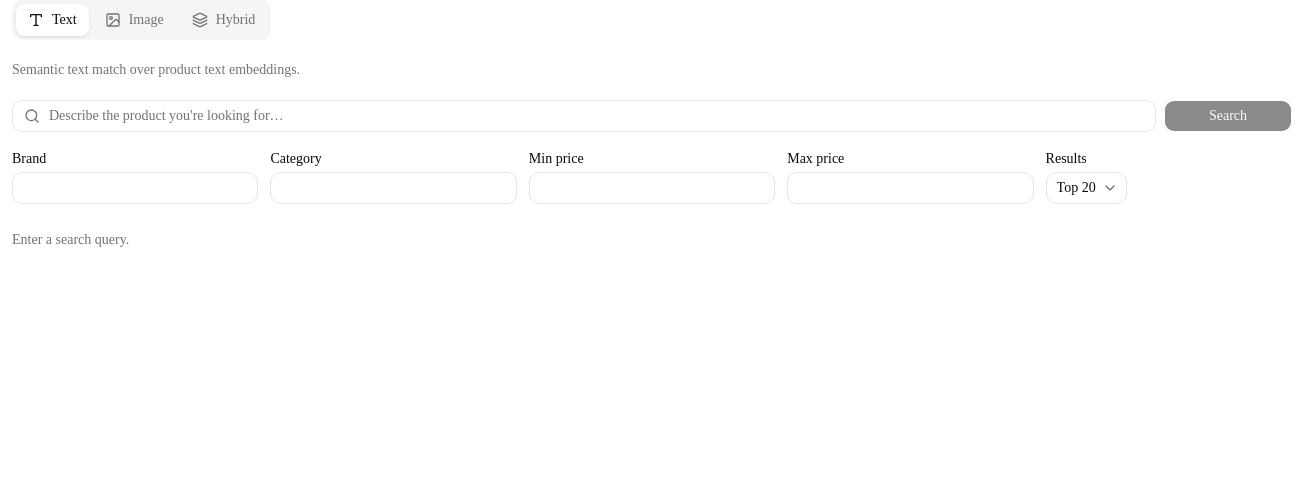
Test: SearchConsole › requires both inputs in hybrid mode
Click the radio button labelled "Hybrid": (224,20) [180,4,267,36]
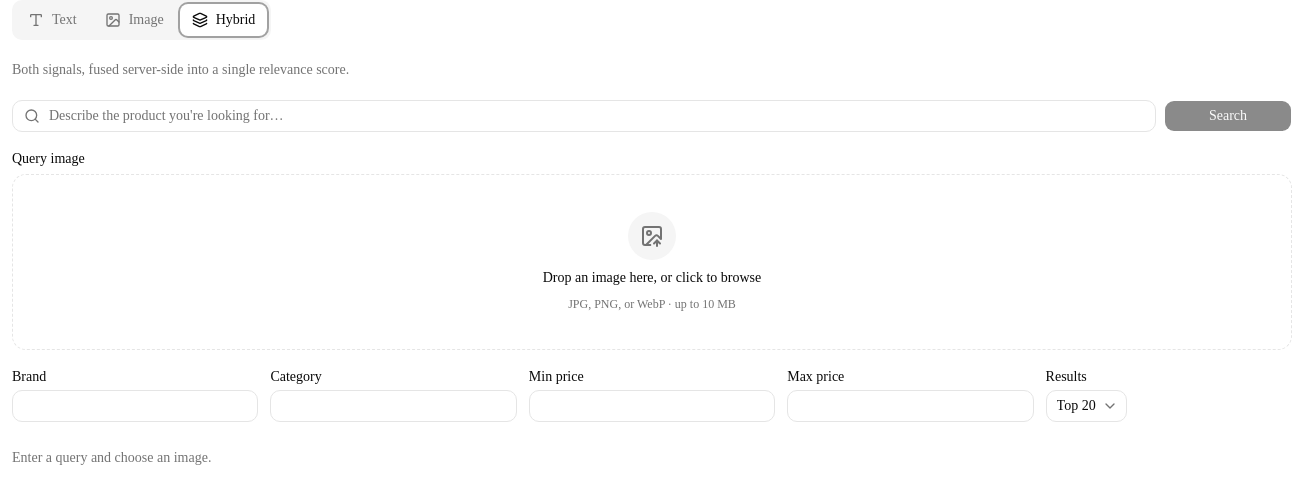
Check: the text "Query image" is shown, box [12,151,85,166]
Check: the text "Enter a query and choose an image." is shown, box [12,450,211,465]
In the field named "Search query": (584,116) [12,100,1156,132], type "shoes"
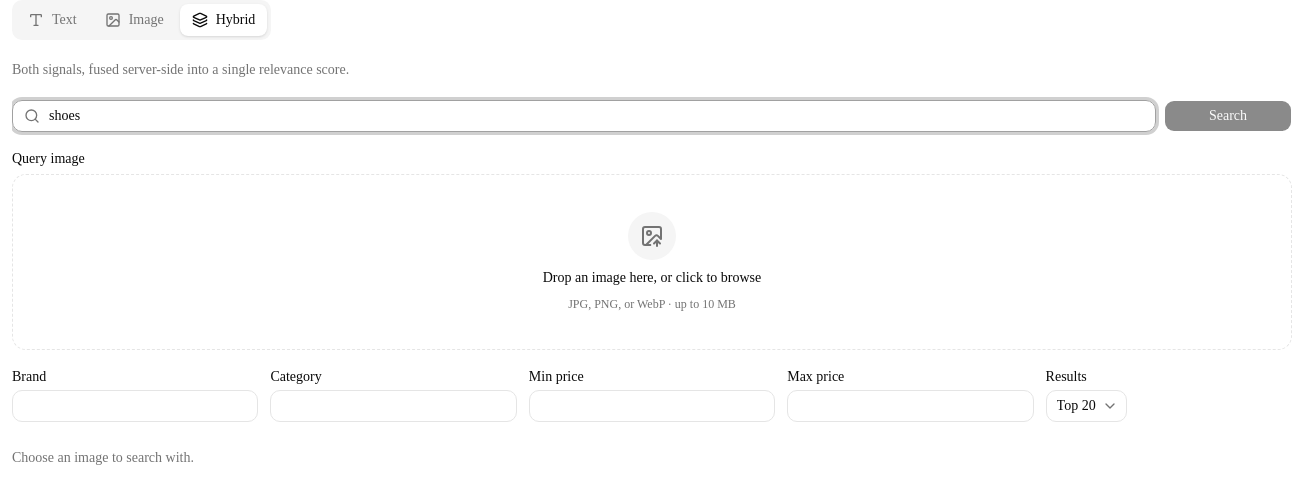
Check: the button "Search" is disabled, box [1164,100,1292,132]
Check: the text "Choose an image to search with." is shown, box [12,450,194,465]
